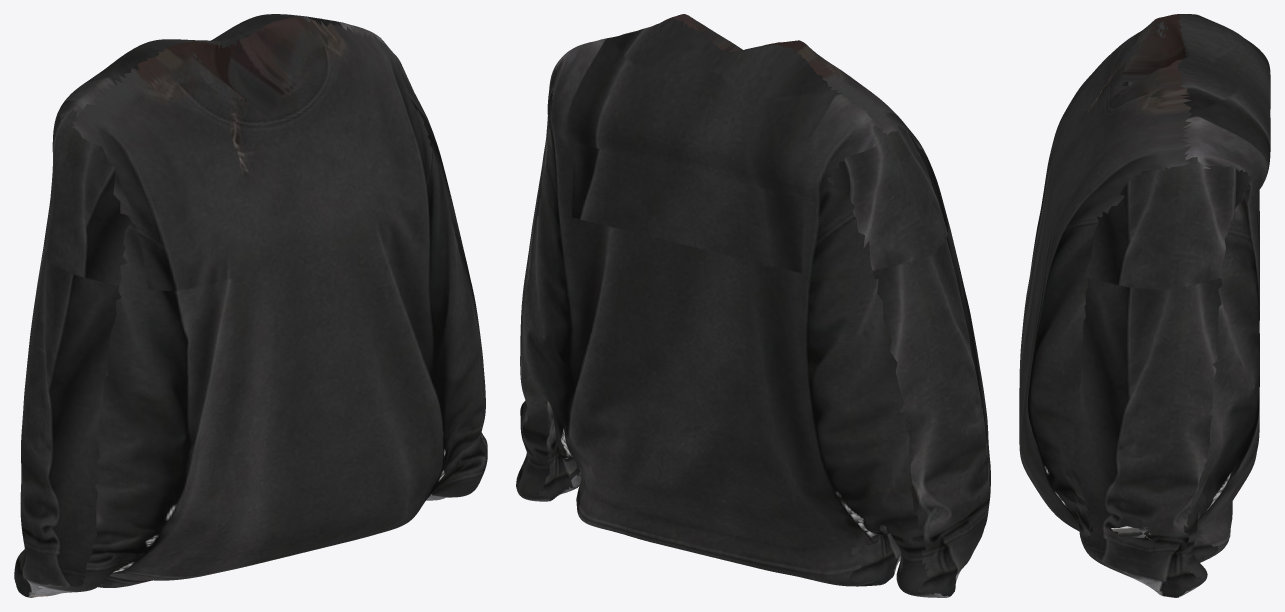
The model's file is NF015-photo-v4.glb.
3 views of the same model, side by side, from view 1: azimuth 30°, elevation 25°; view 2: azimuth 150°, elevation 25°; view 3: azimuth 270°, elevation 25° (orthographic). The views are drawn at different scales.
Visible parts, largest first — view 1: NF015_worn_photo_fitted; view 2: NF015_worn_photo_fitted; view 3: NF015_worn_photo_fitted.
Part boxes in pixels (left/top/right/bottom): NF015_worn_photo_fitted: left=14, top=14, right=487, bottom=597; NF015_worn_photo_fitted: left=516, top=14, right=990, bottom=597; NF015_worn_photo_fitted: left=1019, top=14, right=1270, bottom=597.
Bounding box in the file's own units: 0.5693 × 0.6167 × 0.2996.
3 materials, 3 textured.
